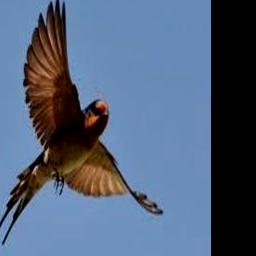Swallow: (0, 0, 164, 246)
